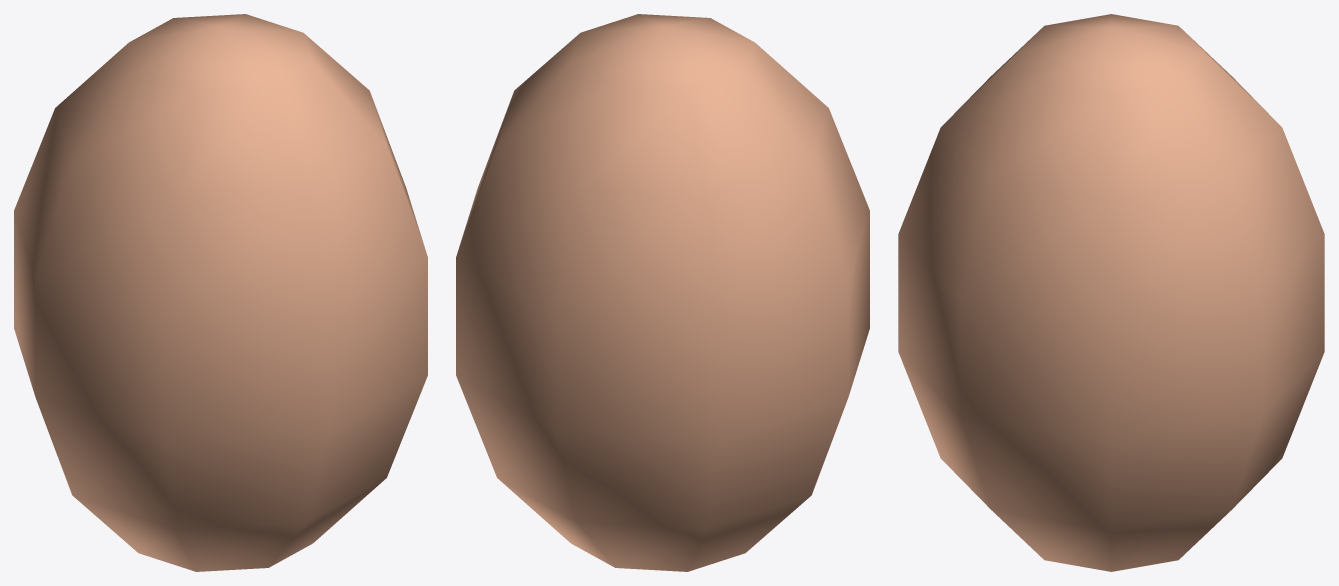
File: EggShell.fbx
The picture shows the model from 3 angles, left to right: view 1: azimuth 30°, elevation 25°; view 2: azimuth 150°, elevation 25°; view 3: azimuth 270°, elevation 25°; orthographic projection.
Visible parts, largest first — view 1: pSphere1; view 2: pSphere1; view 3: pSphere1.
Boxes of the visible parts, <box> form: pSphere1: <box>14,14,427,571</box>; pSphere1: <box>456,14,869,571</box>; pSphere1: <box>898,14,1324,571</box>.
Bounding box in the file's own units: 0.08 × 0.1098 × 0.08.
